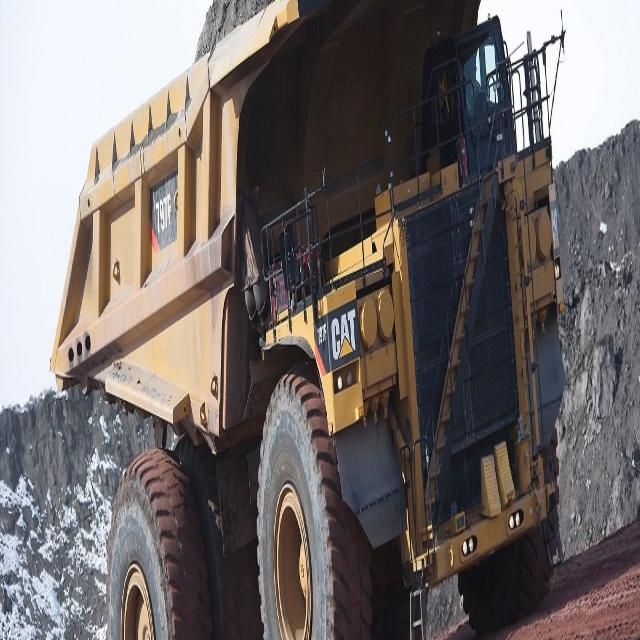dump_truck: (46, 1, 569, 637)
